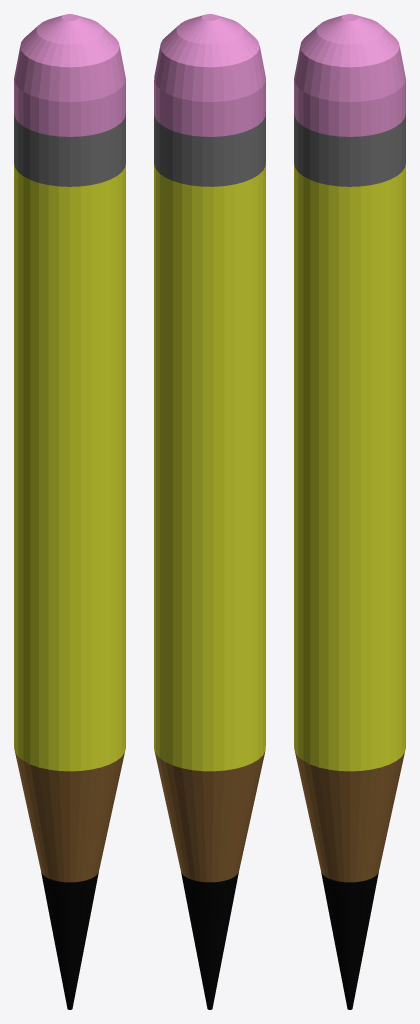
File: pencil.fbx
3 renders of one model, left to right at view 1: azimuth 90°, elevation 25°; view 2: azimuth 150°, elevation 25°; view 3: azimuth 270°, elevation 25°, orthographic.
Visible parts, largest first — view 1: Cylinder; view 2: Cylinder; view 3: Cylinder.
Boxes of the visible parts, x1,y1,x2,y2 form: Cylinder: (14,14,125,1009); Cylinder: (154,14,265,1009); Cylinder: (294,14,405,1009).
Size of the model in its own units: 60 by 586 by 60.
